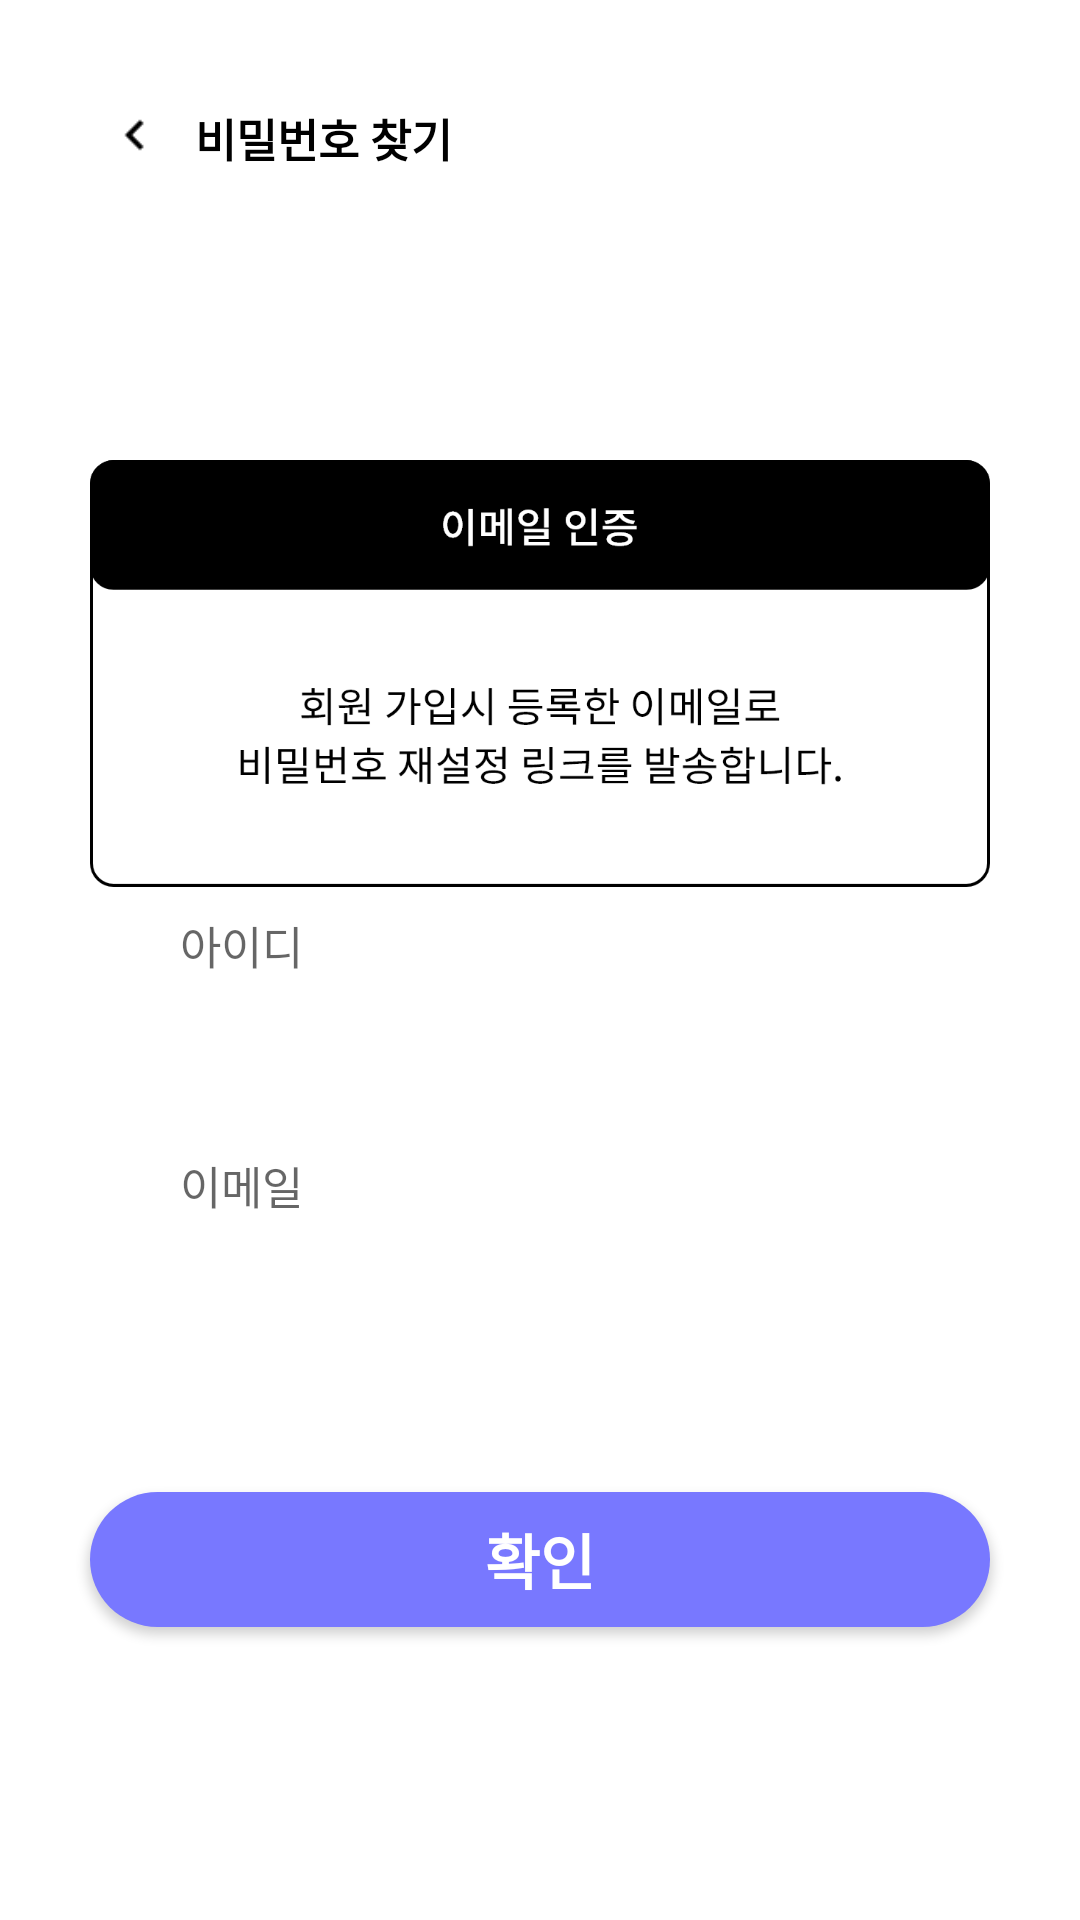

Icon bounding boxes for this 1080 × 1920 phone screenshot, format bbox=(x1, y1, x2, y2):
iconblackleft: bbox=(124, 119, 144, 151)
